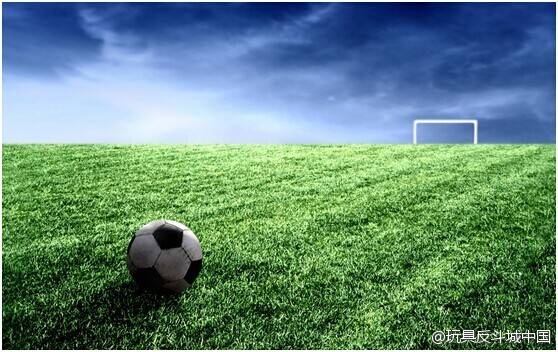football: (122, 217, 205, 292)
